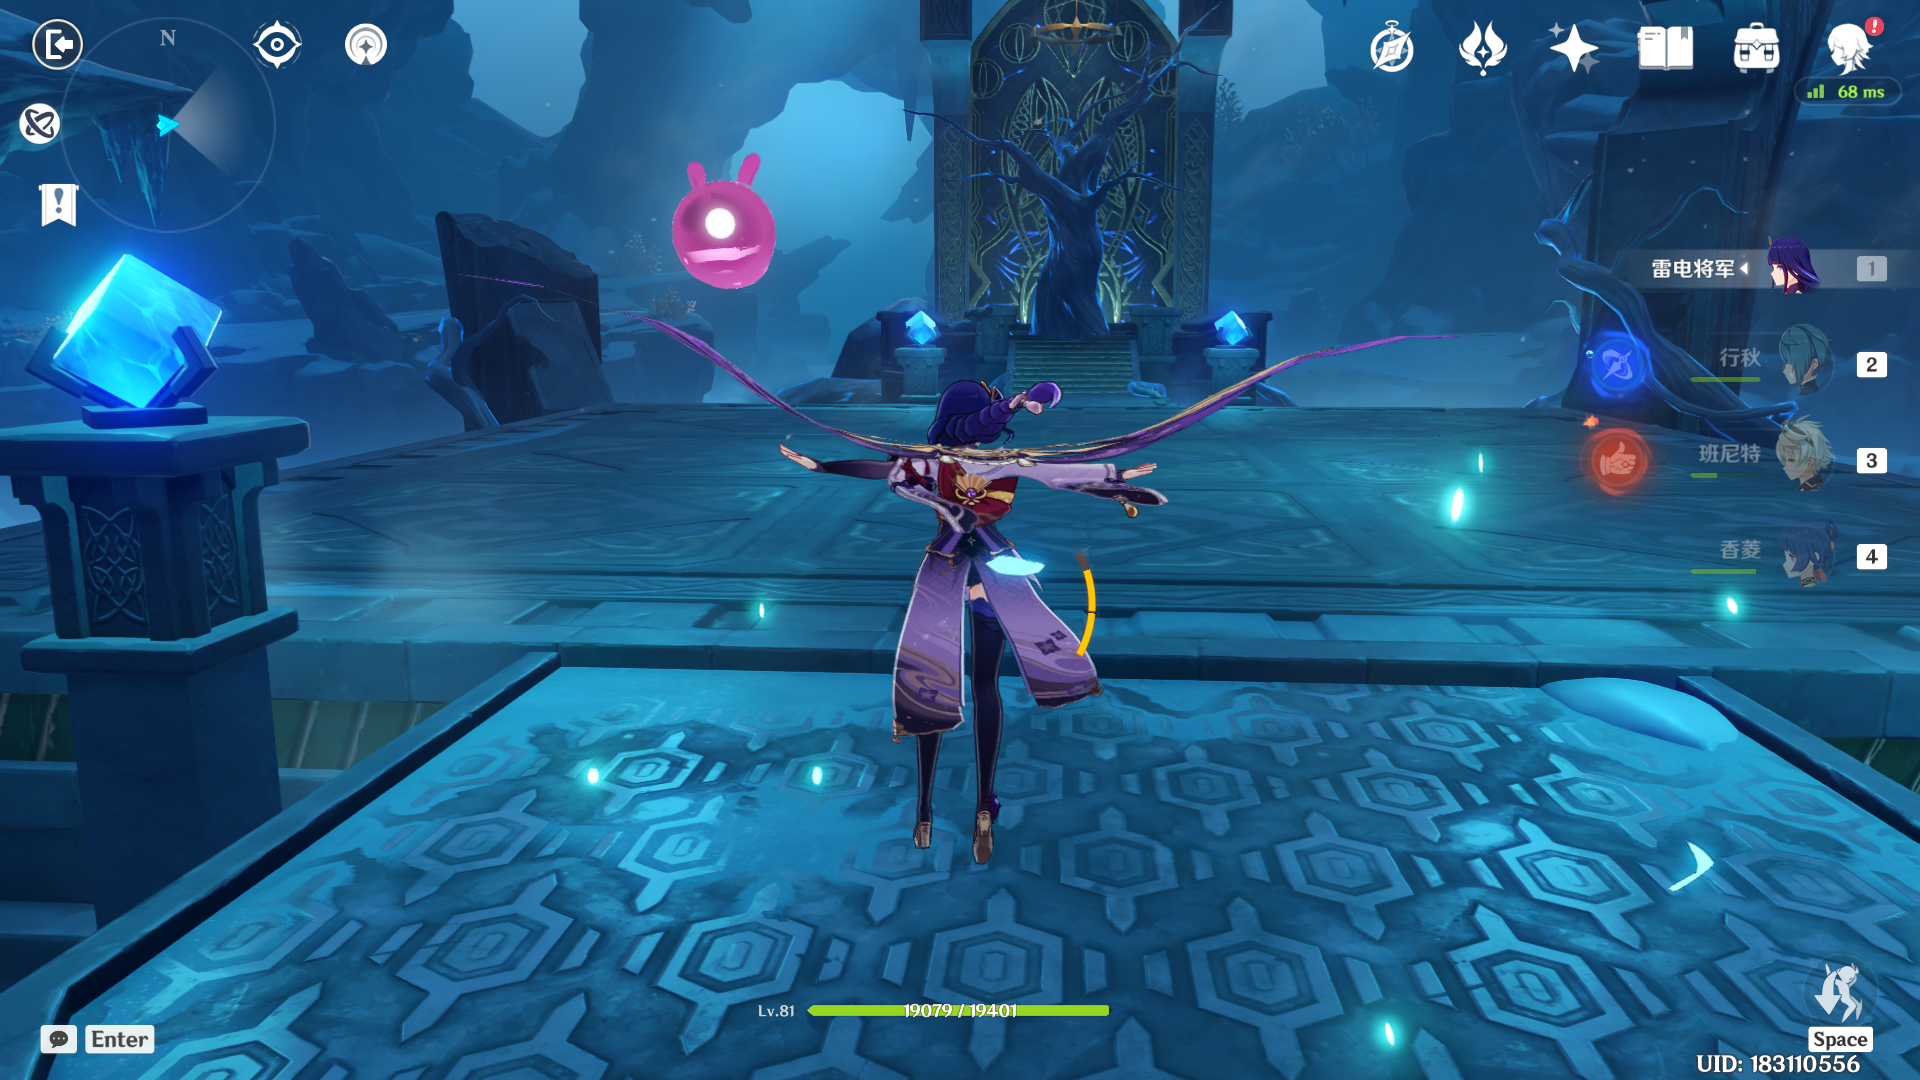character: (823, 373, 1170, 880)
